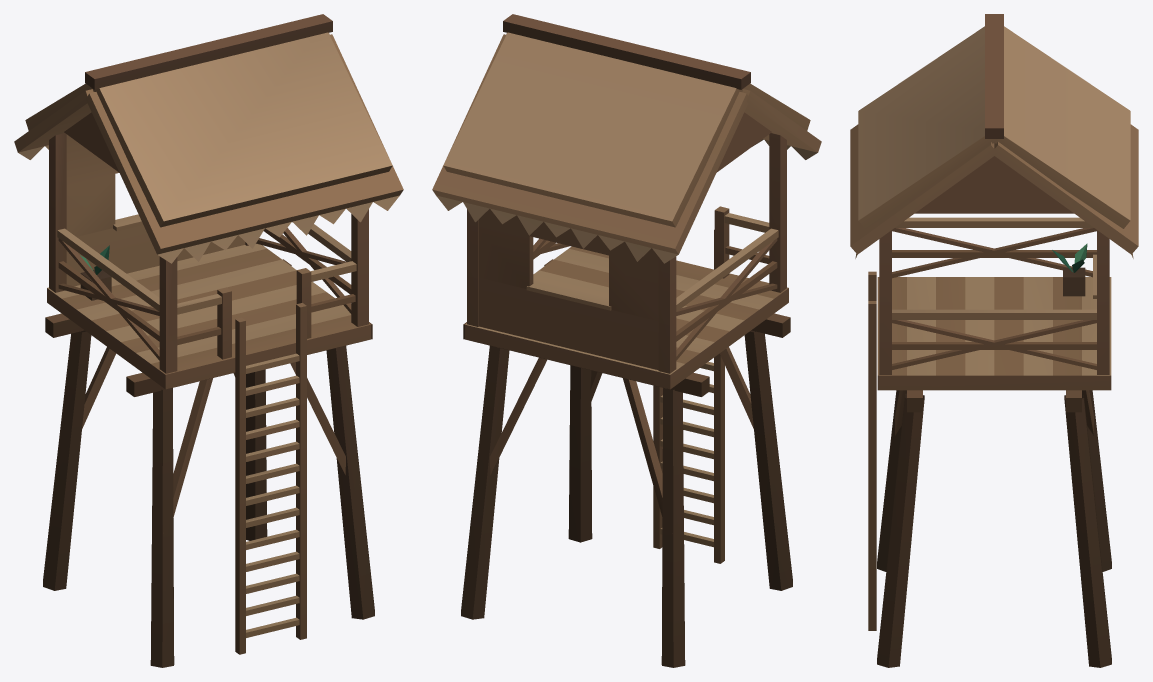
File: custom-casa-iara.glb
The picture shows the model from 3 angles, left to right: view 1: azimuth 30°, elevation 25°; view 2: azimuth 150°, elevation 25°; view 3: azimuth 270°, elevation 25°; orthographic projection.
Parts seen in each view (by area): view 1: casa-iara; view 2: casa-iara; view 3: casa-iara.
Boxes of the visible parts, x1,y1,x2,y2 form: casa-iara: (14, 14, 403, 667); casa-iara: (432, 14, 821, 667); casa-iara: (850, 14, 1138, 667).
Bounding box in the file's own units: 5.2 × 11.34 × 5.44.
